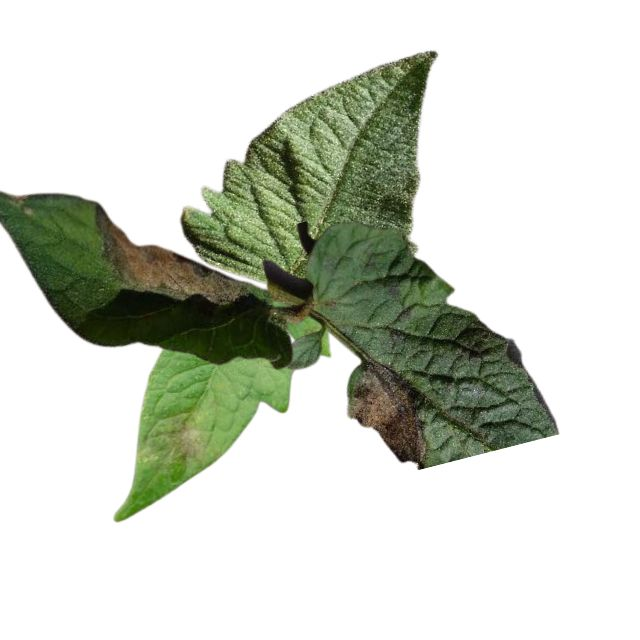Late_blight: (90, 204, 247, 305), (345, 359, 429, 470), (166, 412, 205, 466), (4, 194, 29, 210)
